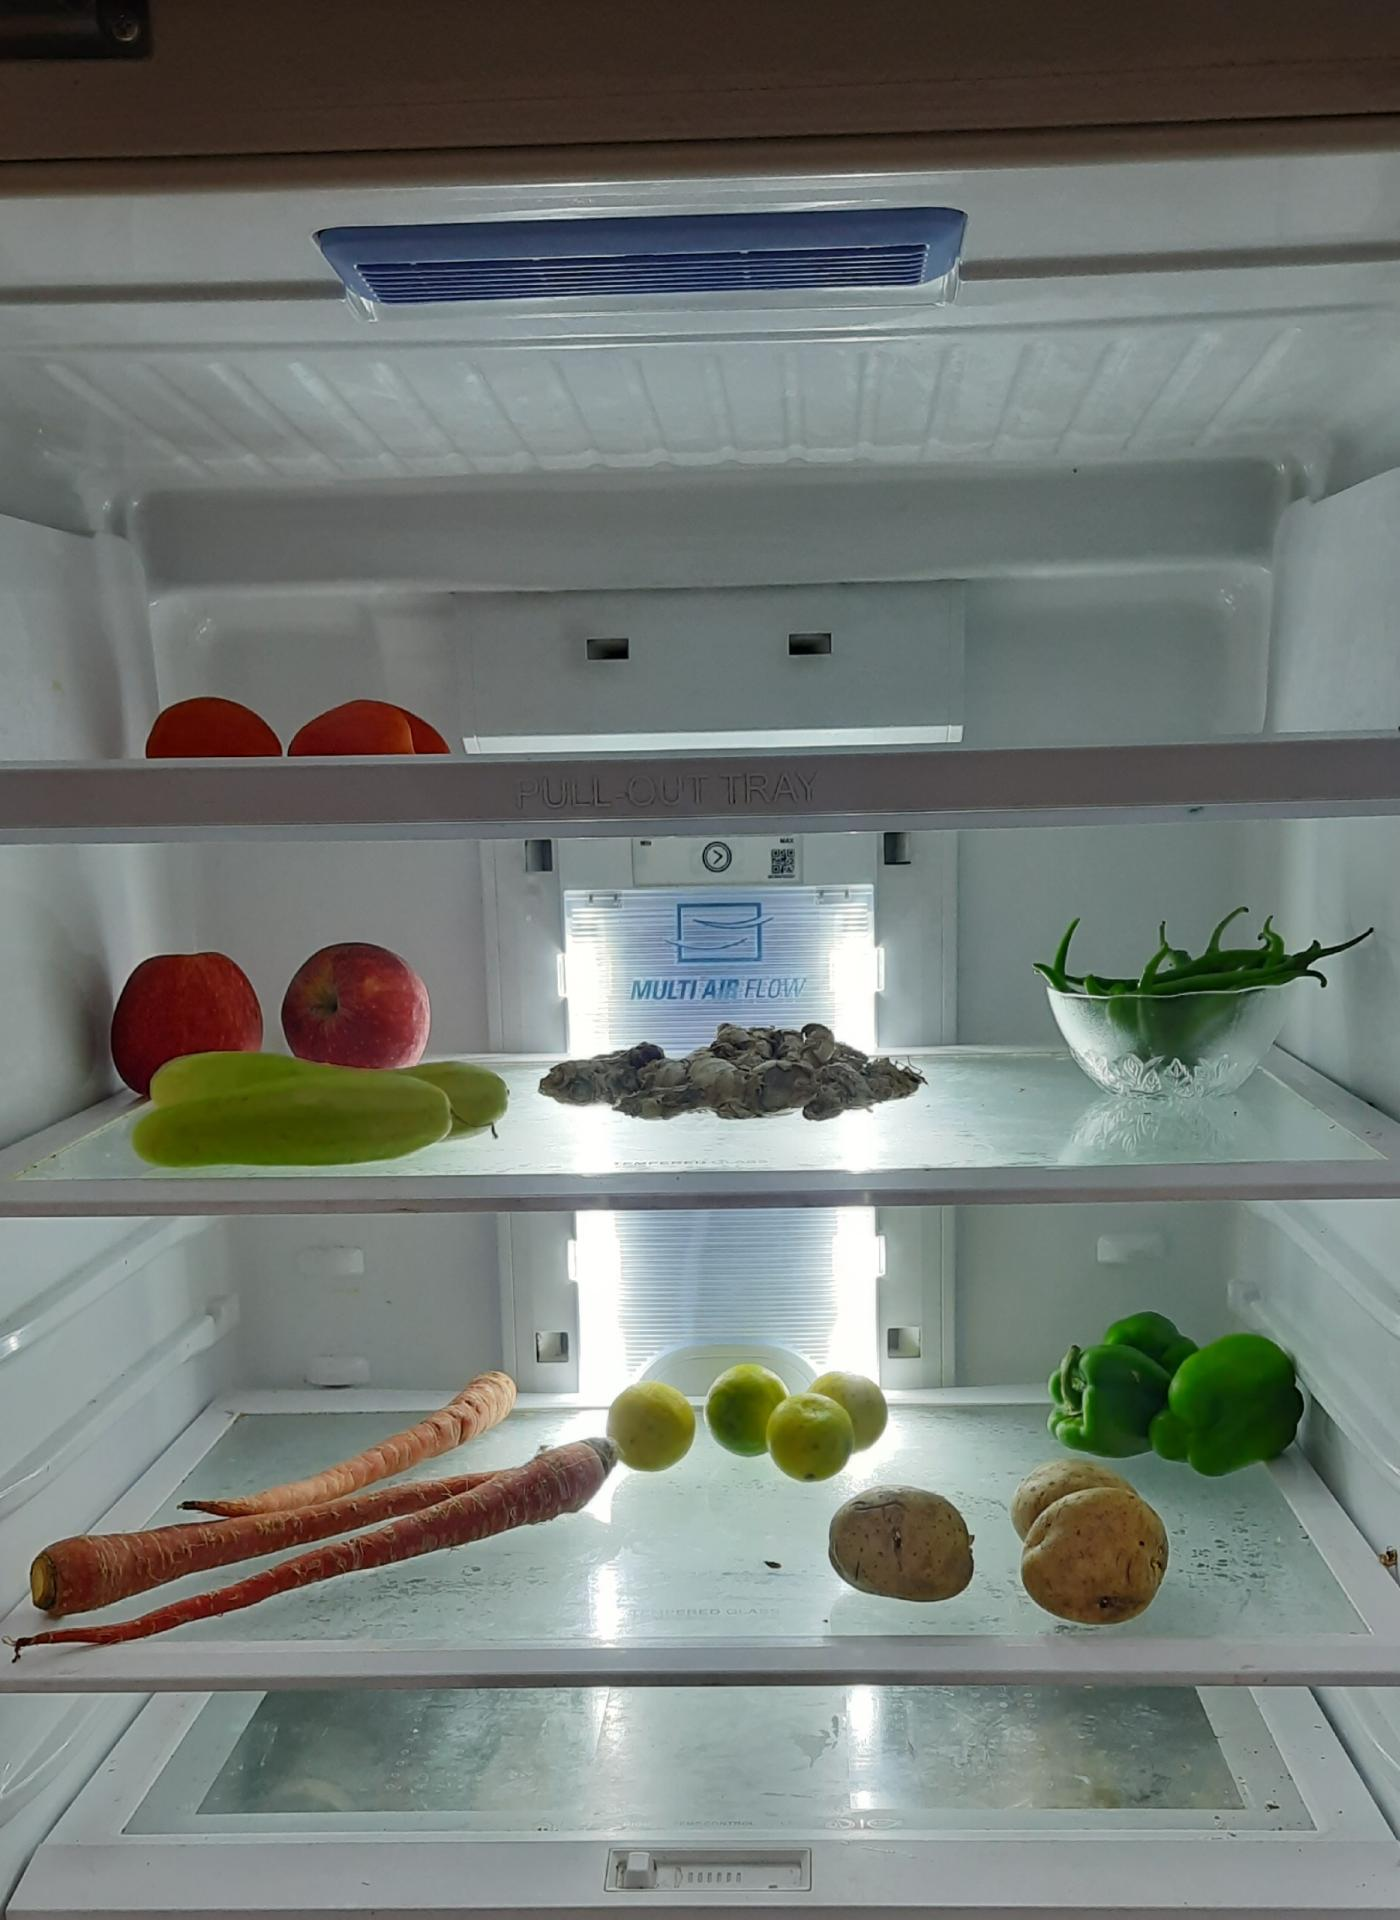apple: (109, 939, 265, 1091), (280, 945, 432, 1078)
capsicum: (1054, 1300, 1327, 1477)
carrots: (19, 1360, 643, 1646)
chillies: (1044, 911, 1384, 1072)
cucumber: (142, 1057, 522, 1157)
ginger: (531, 1015, 939, 1128)
lemon: (608, 1352, 895, 1480)
potato: (1012, 1452, 1179, 1625), (826, 1474, 984, 1607)
tomato: (142, 678, 453, 756)
